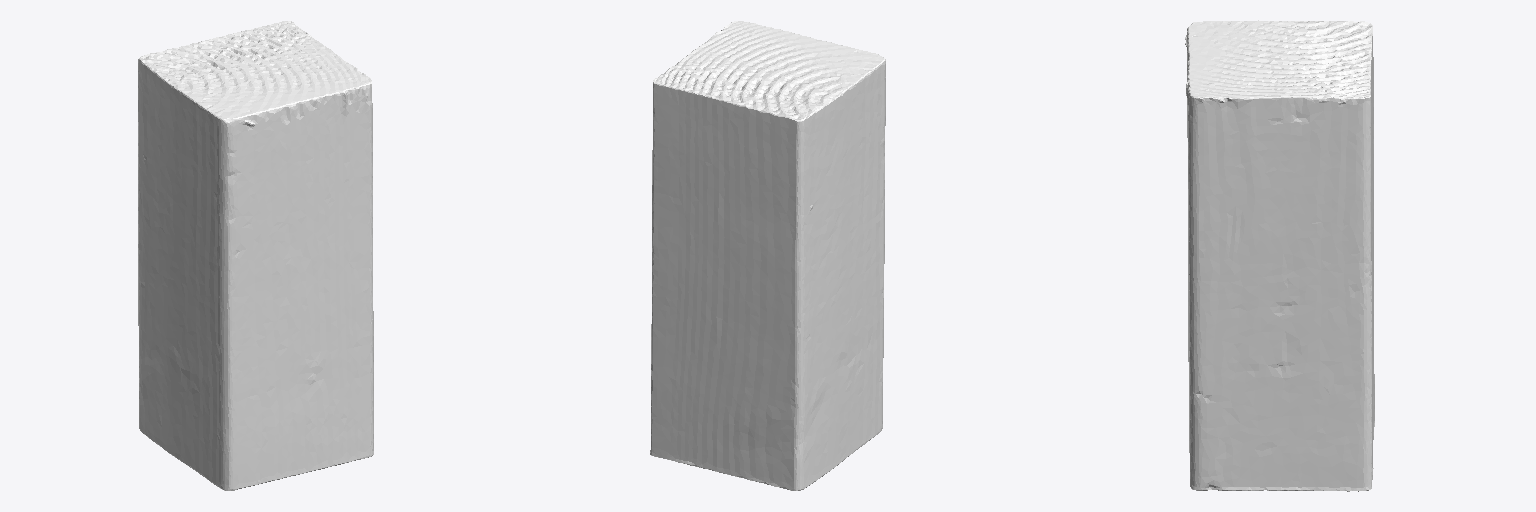
URDF robot description (foam_brick):
<robot name="foam_brick">
	<link name="base_link">
		<visual>
			<origin xyz="0.01862531574247814 -0.016954877906830403 -0.0246441505284604" rpy="0.0 0.0 0.0" />
			<geometry>
				<mesh filename="061_foam_brick/google_16k/textured.obj" scale="1 1 1" />
			</geometry>
			<material name="texture">
				<color rgba="1.0 1.0 1.0 1.0" />
			</material>
		</visual>
		<collision>
			<origin xyz="0.01862531574247814 -0.016954877906830403 -0.0246441505284604" rpy="0.0 0.0 0.0" />
			<geometry>
				<mesh filename="061_foam_brick/google_16k/textured_vhacd.obj" scale="1 1 1" />
			</geometry>
		</collision>
		<inertial>
			<mass value="0.028" />
			<inertia ixx="1e-3" ixy="0.0" ixz="0.0" iyy="1e-3" iyz="0.0" izz="1e-3" />
		</inertial>
	</link>
</robot>

--- Render facts (derived) ---
The picture shows the robot from 3 angles, left to right: view 1: azimuth 30°, elevation 25°; view 2: azimuth 150°, elevation 25°; view 3: azimuth 270°, elevation 25°; orthographic projection.
Model foam_brick with 1 links and 0 joints (none), rooted at base_link, posed all joints at 0.
Visible links, largest first — view 1: base_link; view 2: base_link; view 3: base_link.
Boxes of the visible links, x1=… form: base_link: x1=138, y1=21, x2=373, y2=490; base_link: x1=650, y1=21, x2=885, y2=490; base_link: x1=1185, y1=20, x2=1374, y2=491.
Bounding box of the posed robot: 0.0906 × 0.0899 × 0.206 m (x, y, z).
Meshes: 1 distinct files referenced, 1 mesh visuals loaded (1 OBJ).